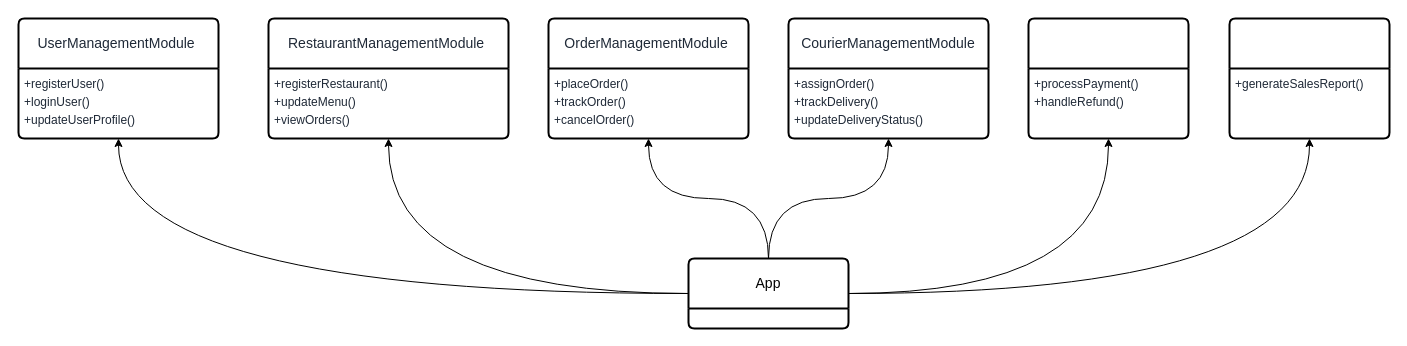
Some shapes in this 1407 by 346 pixel diagram are drawn without their labels. Each missing label, with the box of its shape:
AnalyticsModule: (1228, 17, 1390, 139)
PaymentModule: (1027, 17, 1189, 139)
